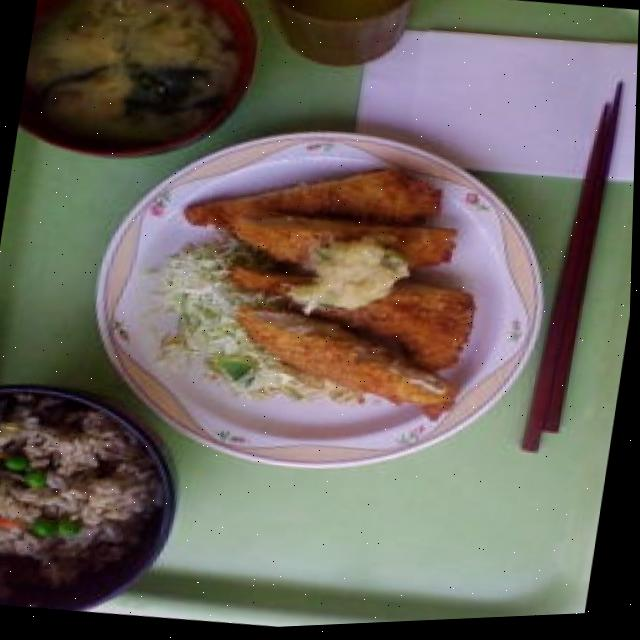汤锅炖物: (15, 0, 265, 170)
米饭主食: (0, 388, 182, 609)
